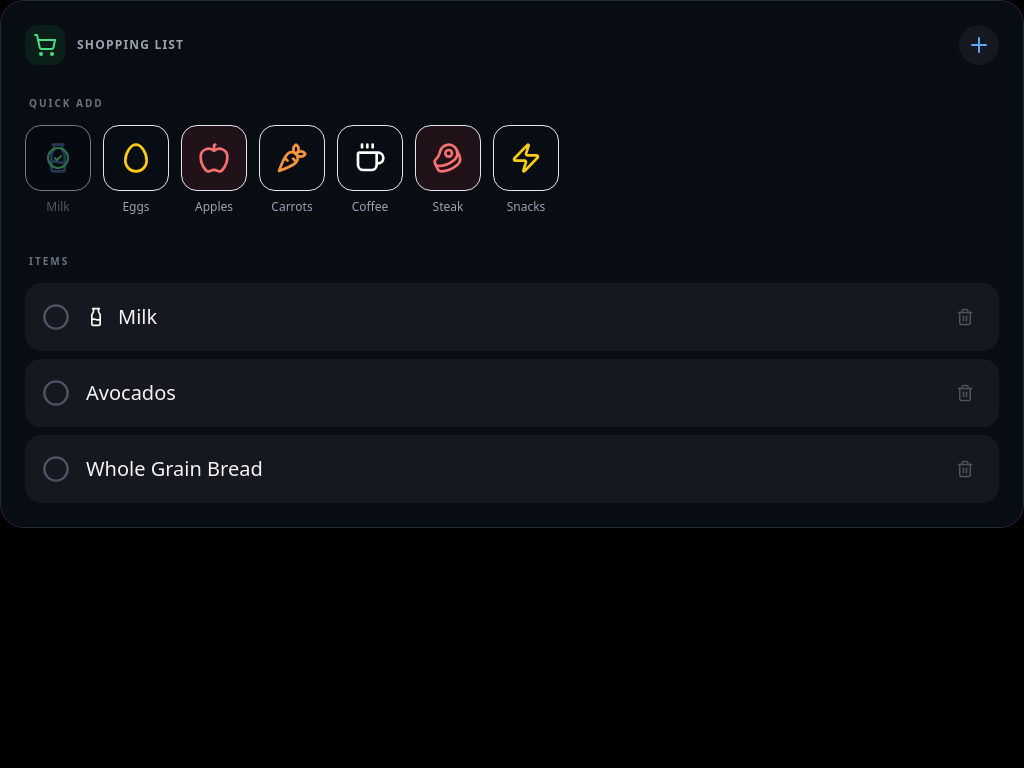
Test: ShoppingListWidget › adds a new item when submitted via button
Note: Open add form
Click the button named "Add item" at point(979, 45), box [959,25,999,65]
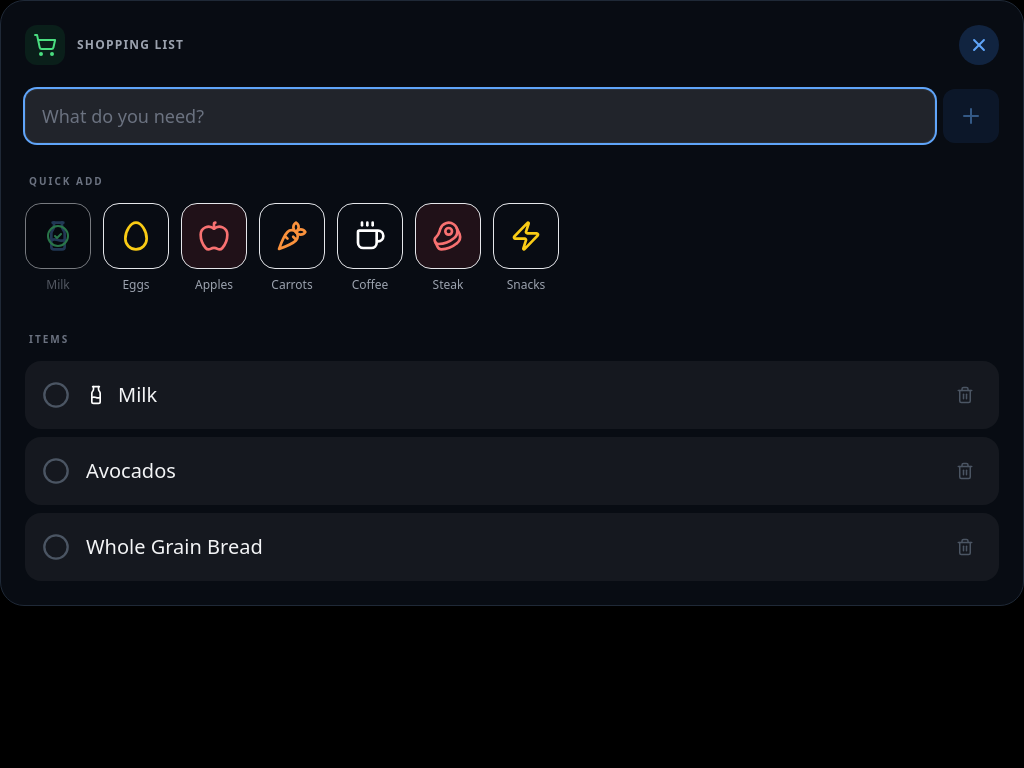
Note: Type \"Sourdough Bread\"
Type "Sourdough Bread" into the field named "New item name" at point(480, 116), box [25,89,935,143]
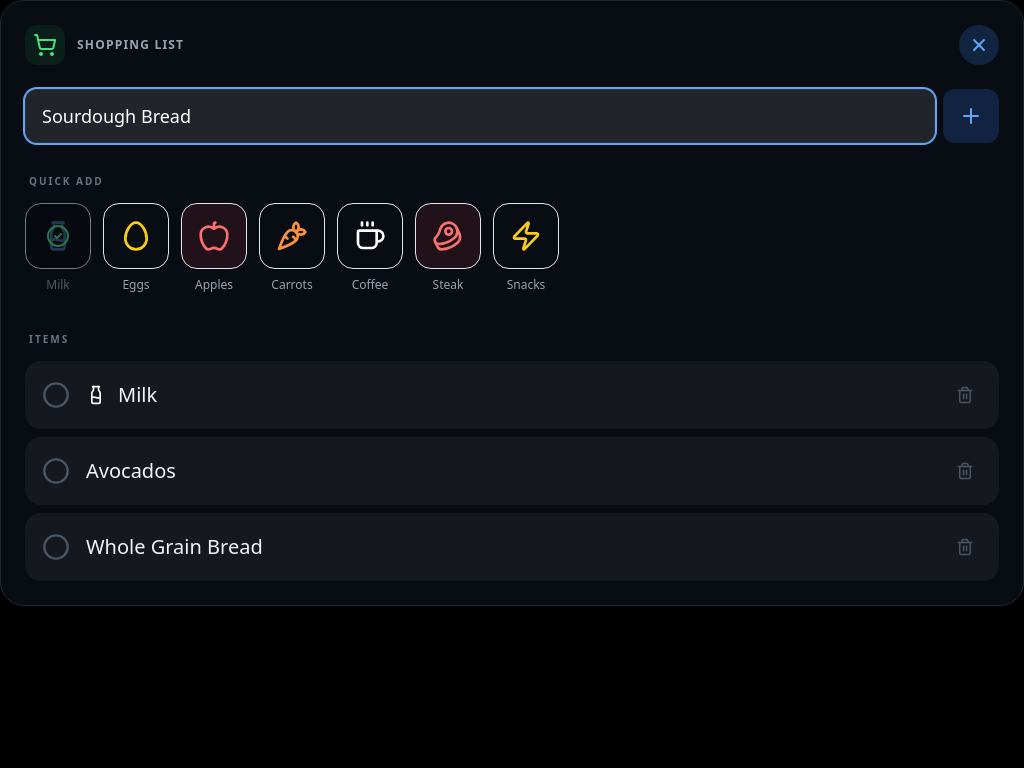
Click the button named "Confirm add item" at point(971, 116), box [943,89,999,143]
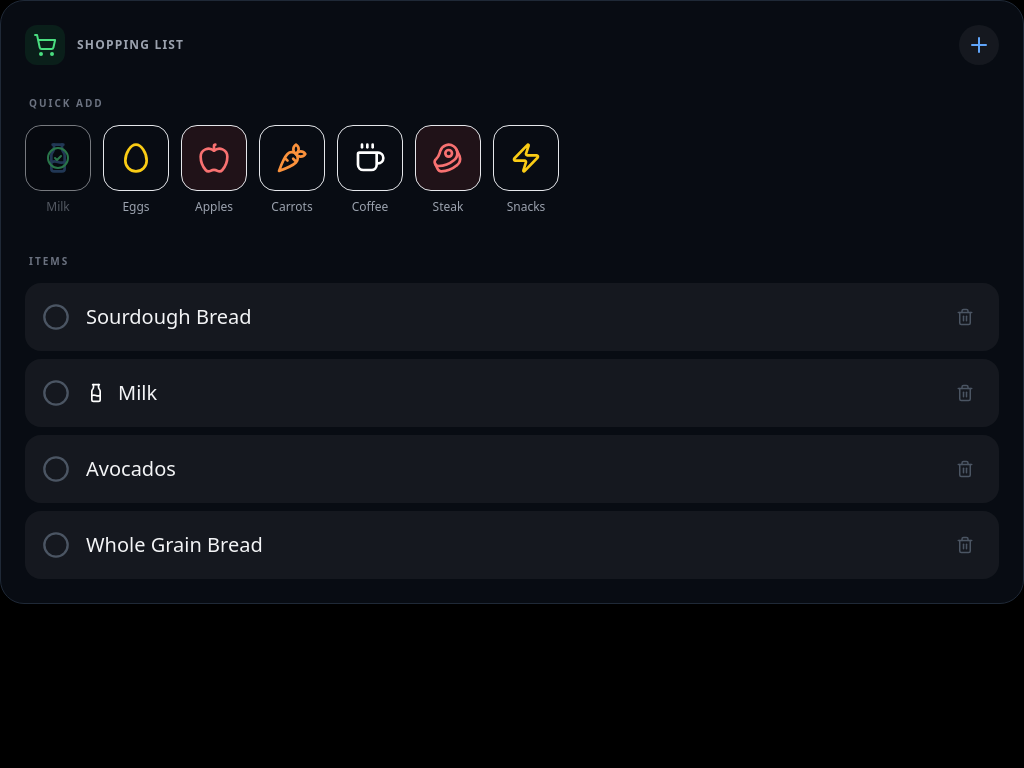
expect the button "Sourdough Bread" is shown: met, box [42,303,252,331]
